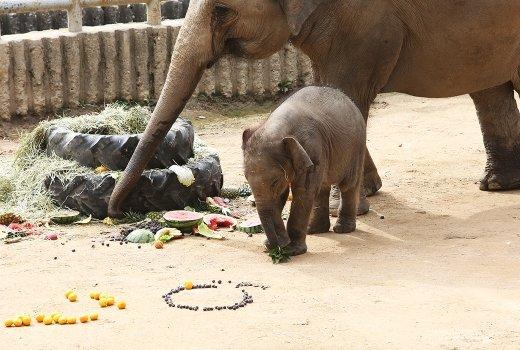elephant: (107, 0, 519, 219), (240, 84, 369, 257)
